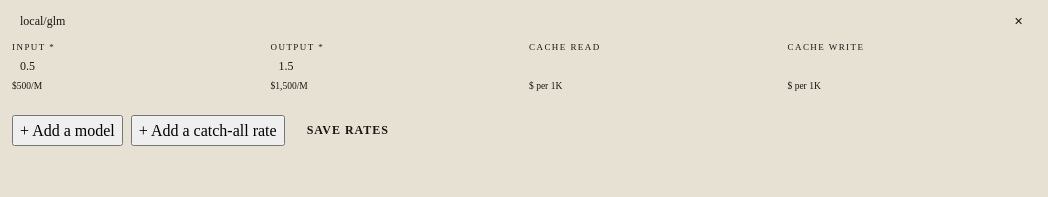
Test case: a failed save is reported without losing what was typed
This screenshot has width=1048, height=197.
Replace the text in the number field named "Input rate for local/glm" with "0.25" at (136, 66), box [12,54,260,79]
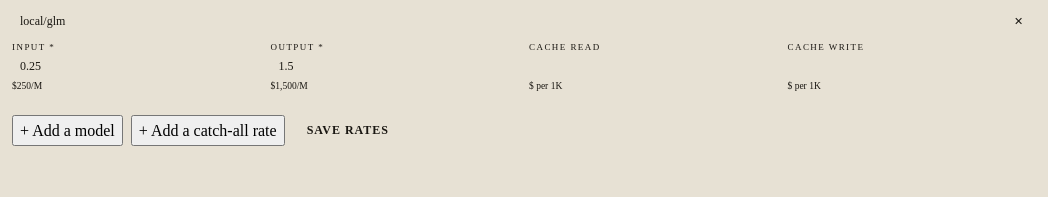
Click the button "Save rates" at (348, 130), box [293,115,403,146]
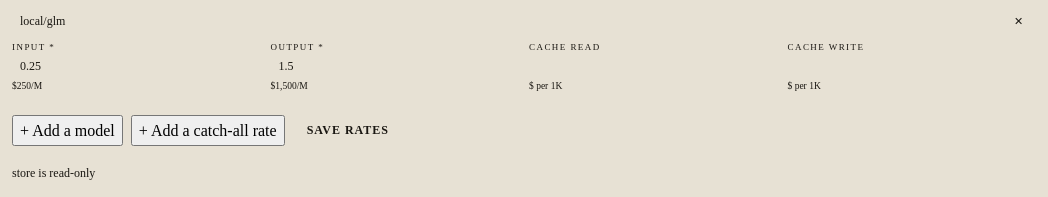
Check: the text "store is read-only" is shown, box [12,166,95,180]
